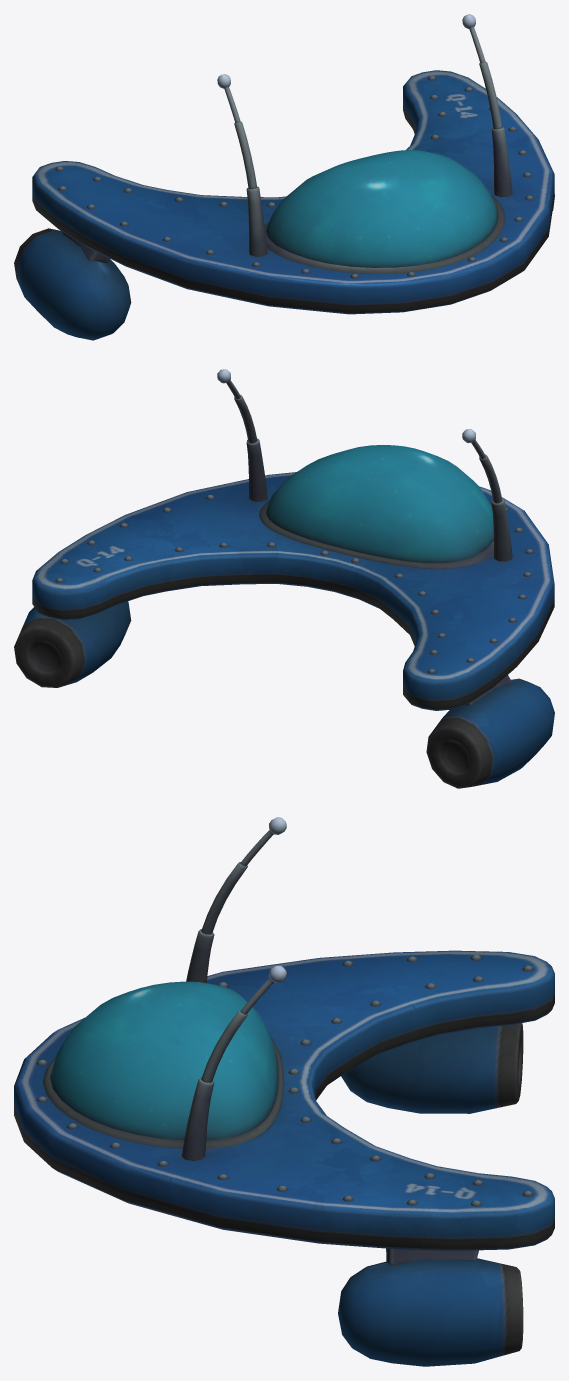
The model's file is Spaceship_Combat_Q14.fbx.
3 views of the same model, one above another, from view 1: azimuth 30°, elevation 25°; view 2: azimuth 150°, elevation 25°; view 3: azimuth 270°, elevation 25° (orthographic). The views are drawn at different scales.
Parts seen in each view (by area): view 1: Spaceship_Combat_Q14; view 2: Spaceship_Combat_Q14; view 3: Spaceship_Combat_Q14.
Boxes of the visible parts, box(x1,y1,x2,y2) form: Spaceship_Combat_Q14: box(14, 14, 554, 340); Spaceship_Combat_Q14: box(14, 369, 554, 788); Spaceship_Combat_Q14: box(14, 817, 554, 1366).
Size of the model in its own units: 985 by 523 by 747.
